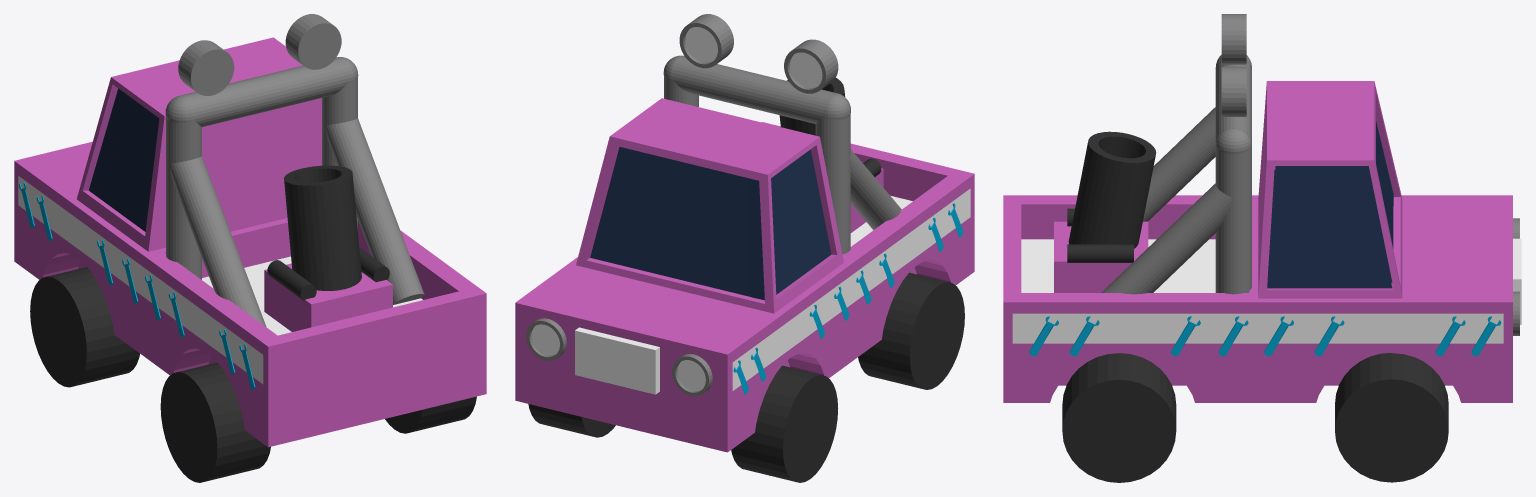
The model's file is daedon.fbx.
3 views of the same model, side by side, from view 1: azimuth 30°, elevation 25°; view 2: azimuth 150°, elevation 25°; view 3: azimuth 270°, elevation 25° (orthographic). The views are drawn at different scales.
Visible parts, largest first — view 1: Cylinder.015; view 2: Cylinder.015; view 3: Cylinder.015.
Boxes of the visible parts, left/top/right/bottom form: Cylinder.015: left=14, top=14, right=486, bottom=482; Cylinder.015: left=515, top=14, right=974, bottom=482; Cylinder.015: left=1003, top=14, right=1521, bottom=482.
Bounding box in the file's own units: 2.37 × 3.28 × 4.1.
